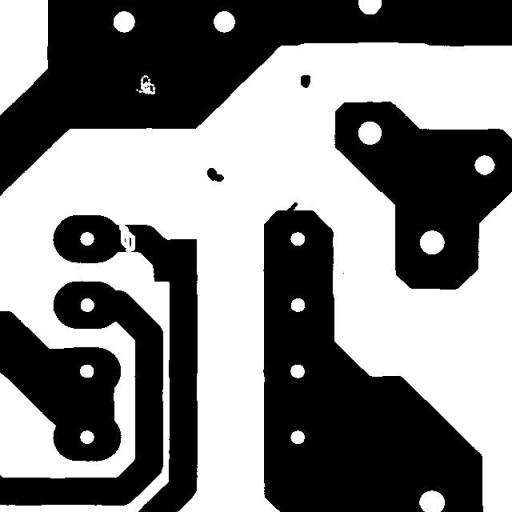copper: (199, 160, 231, 189), (292, 67, 318, 95)
open: (112, 216, 142, 259)
pin-hole: (128, 67, 162, 102)
spur: (278, 194, 305, 221)
